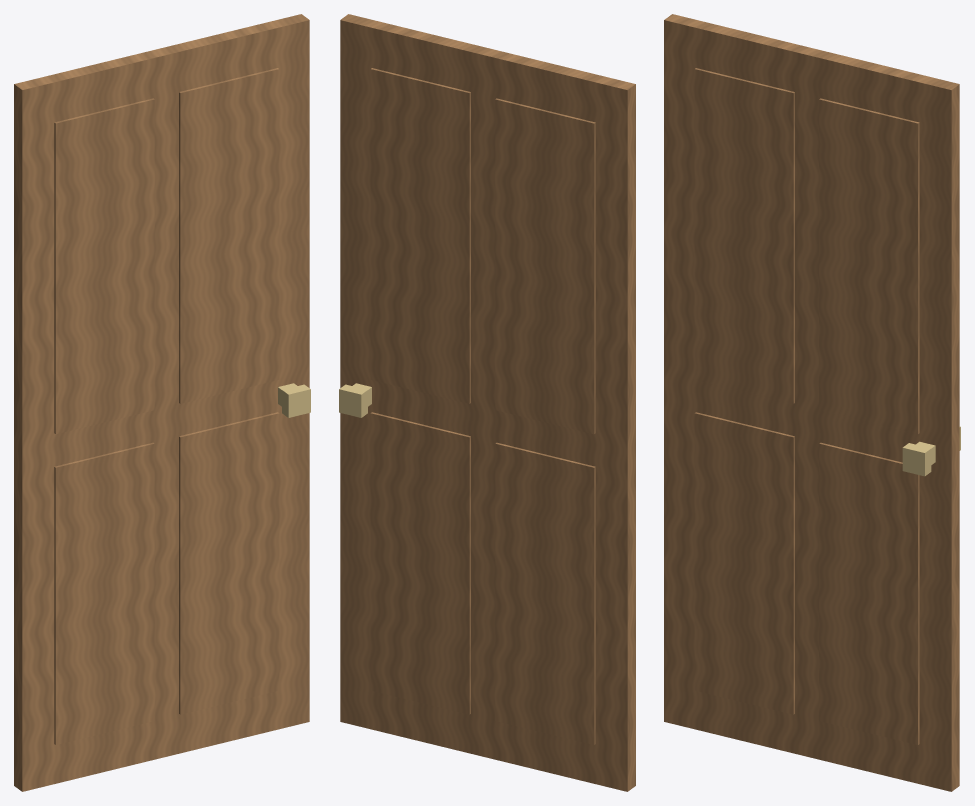
File: mlo_door_four_panel_oak.glb
3 renders of one model, left to right at view 1: azimuth 30°, elevation 25°; view 2: azimuth 150°, elevation 25°; view 3: azimuth 330°, elevation 25°, orthographic.
Visible parts, largest first — view 1: Door_Four_Panel_Oak; view 2: Door_Four_Panel_Oak; view 3: Door_Four_Panel_Oak.
Boxes of the visible parts, x1,y1,x2,y2 form: Door_Four_Panel_Oak: (14,14,310,791); Door_Four_Panel_Oak: (339,14,635,791); Door_Four_Panel_Oak: (664,14,960,791).
Bounding box in the file's own units: 0.9 × 2.1 × 0.195.
Materials: 2 (1 with a texture image).
